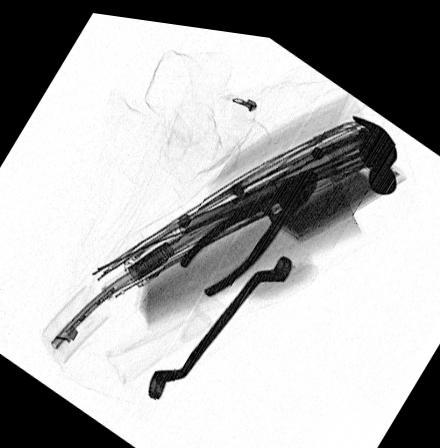Hammer: (121, 103, 398, 283)
Pliers: (176, 160, 320, 293)
Powerbank: (268, 138, 408, 236)
Wrench: (146, 246, 291, 394)
